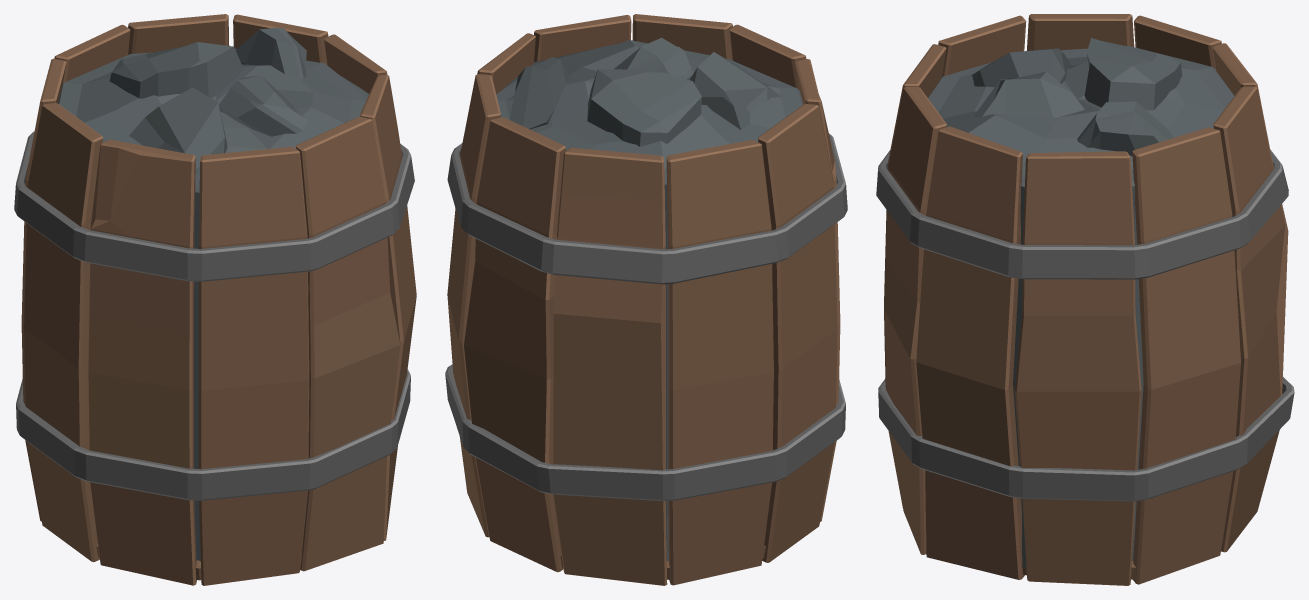
File: Barrel3_Grey.fbx
3 views of the same model, side by side, from view 1: azimuth 30°, elevation 25°; view 2: azimuth 150°, elevation 25°; view 3: azimuth 270°, elevation 25° (orthographic).
Visible parts, largest first — view 1: Barrel3_Grey, Grey_Nuggets; view 2: Barrel3_Grey, Grey_Nuggets; view 3: Barrel3_Grey, Grey_Nuggets.
Part boxes in pixels (x1,y1,x2,y2): Barrel3_Grey: [14, 14, 416, 585]; Grey_Nuggets: [109, 27, 308, 168]; Barrel3_Grey: [445, 14, 847, 585]; Grey_Nuggets: [509, 37, 781, 146]; Barrel3_Grey: [876, 14, 1294, 585]; Grey_Nuggets: [971, 38, 1182, 156].
Bounding box in the file's own units: 101 × 126 × 106.
